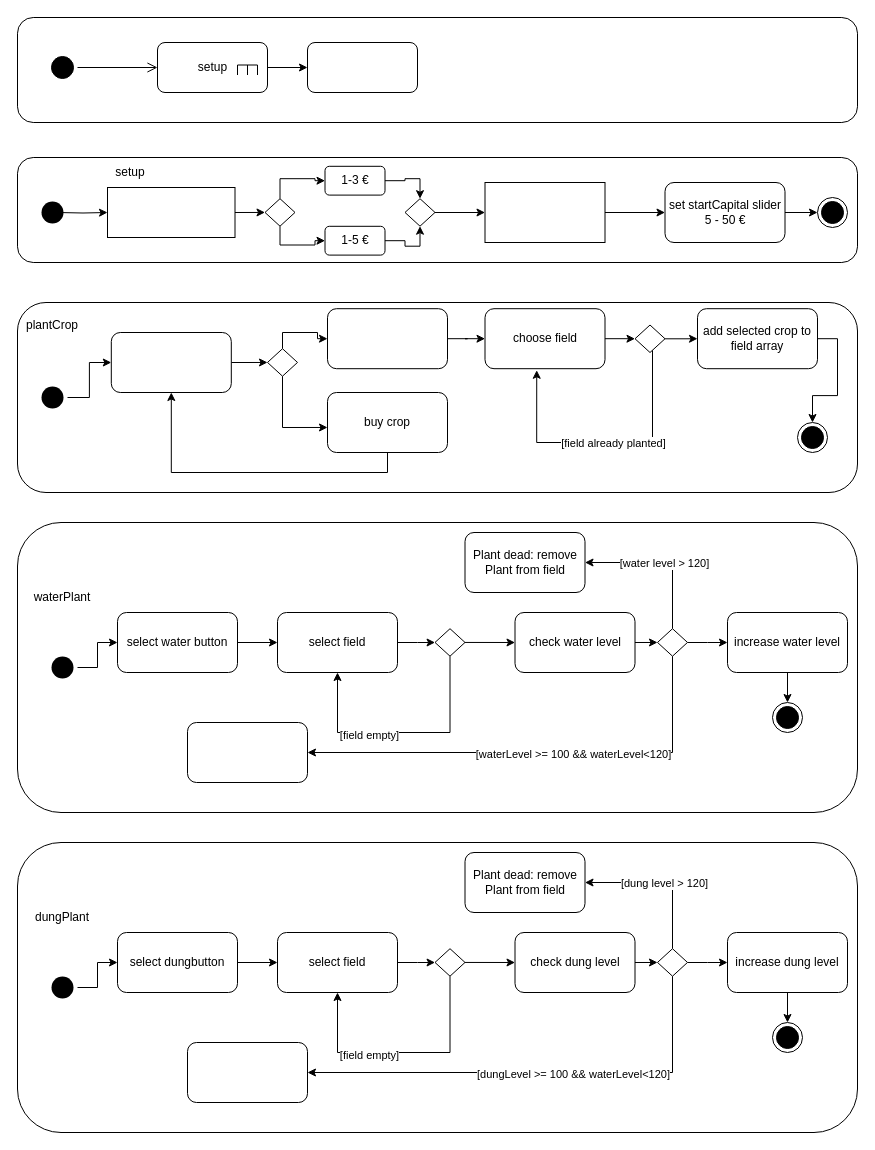
This 875x1150 diagram has some shape labels left out. The centre of each missing label's shape, as x and y in pixels:
"choose crop" belongs at (170,362).
"minRange: number; maxRange: number;" belongs at (170,212).
"set ative crop to selected crop" belongs at (387,338).
"show too much dung alert" belongs at (247,1072).
"show too much water alert" belongs at (247,752).
"start Game" belongs at (362,67).
"startCapital: int;" belongs at (544,212).
